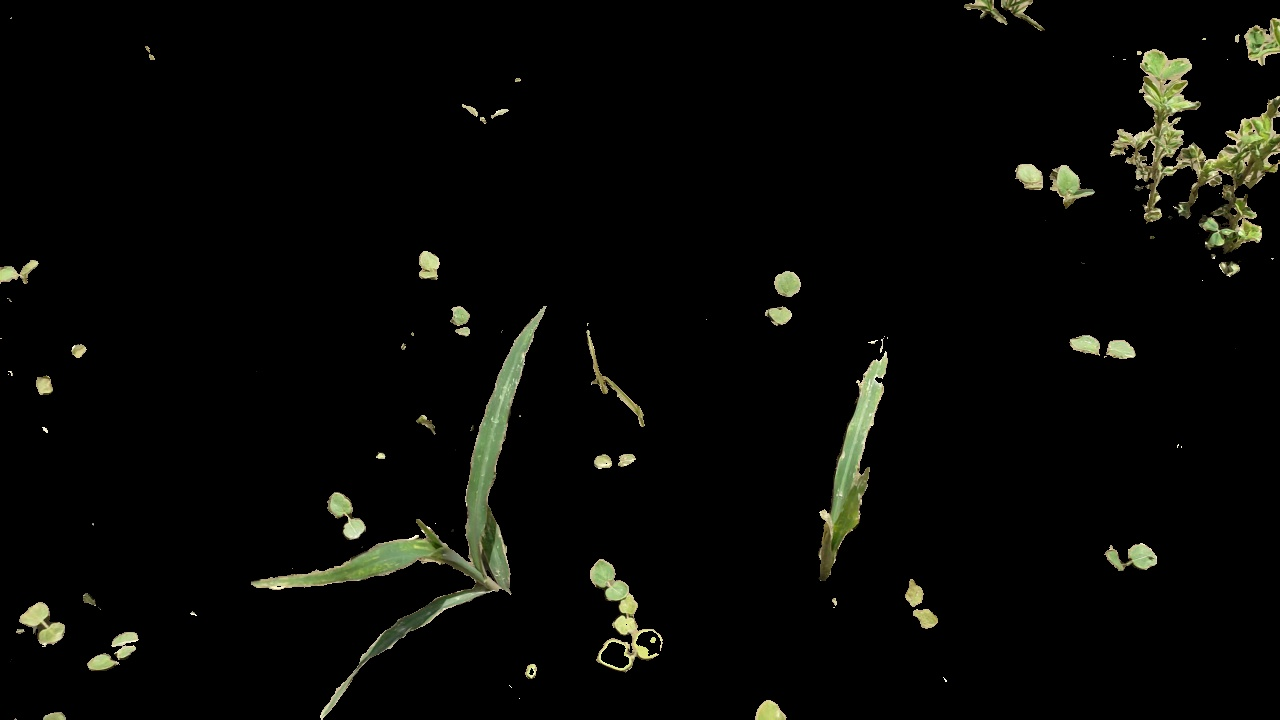crop: (444, 306, 556, 615), (255, 528, 539, 630), (795, 340, 894, 589)
weed: (1112, 23, 1280, 279), (587, 557, 671, 673), (1005, 154, 1096, 210), (80, 623, 155, 671), (17, 588, 68, 658), (316, 486, 374, 543), (1065, 330, 1143, 371), (1091, 531, 1160, 573), (766, 256, 803, 332), (900, 576, 940, 631), (1, 244, 42, 293), (460, 99, 510, 138), (596, 449, 642, 477), (418, 246, 445, 289), (449, 301, 476, 340)
